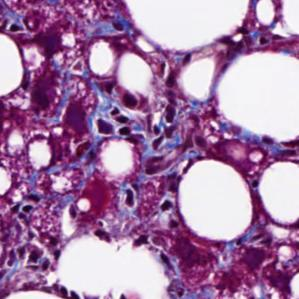inflammation: (88, 98, 144, 147), (1, 191, 53, 230)
